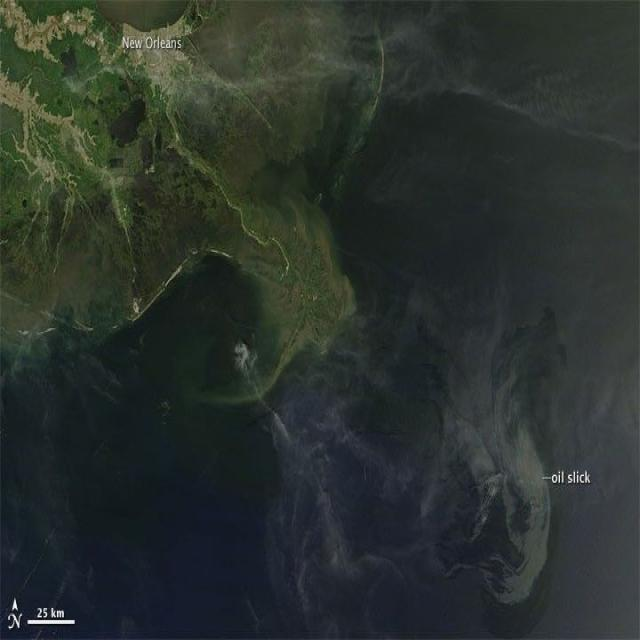oil spill: (424, 311, 560, 597), (287, 431, 376, 610)
